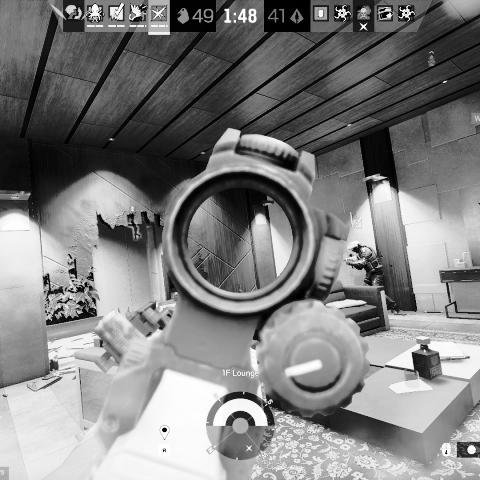Character: (342, 241, 402, 316)
Friend_label: (340, 216, 374, 241)
Head: (348, 243, 362, 254)
